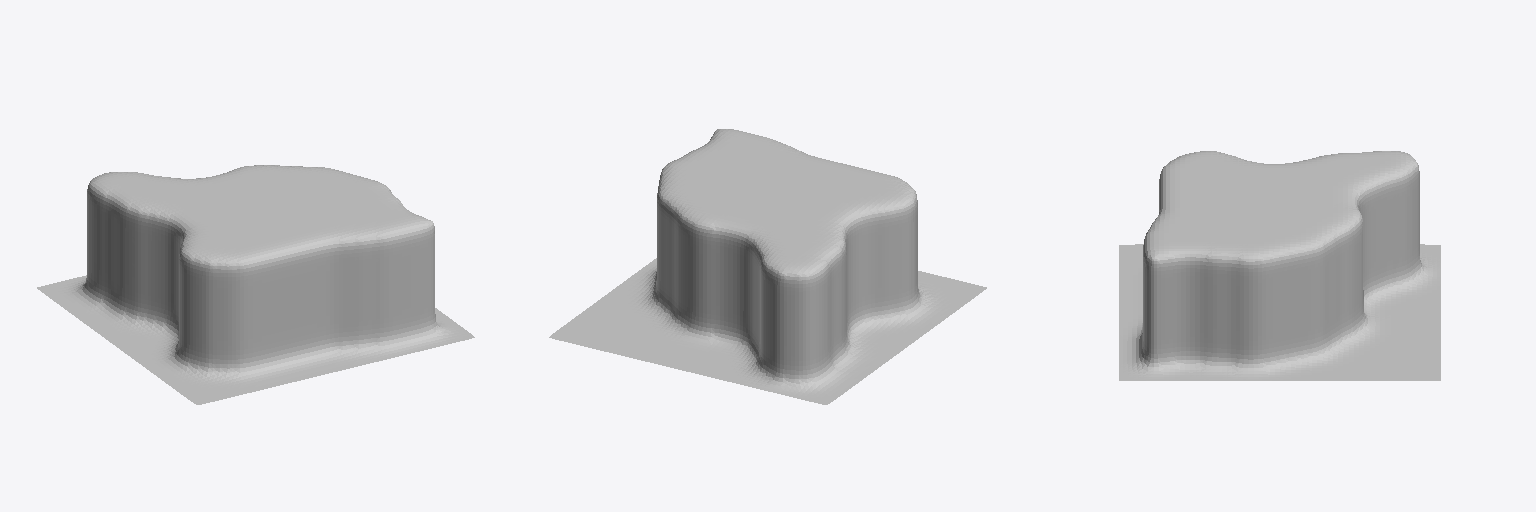
Rendered from mesa4.obj.
3 views of the same model, side by side, from view 1: azimuth 30°, elevation 25°; view 2: azimuth 150°, elevation 25°; view 3: azimuth 270°, elevation 25° (orthographic).
Parts seen in each view (by area): view 1: Plane; view 2: Plane; view 3: Plane.
Part boxes in pixels (left/top/right/bottom): Plane: left=37, top=165, right=474, bottom=404; Plane: left=549, top=129, right=986, bottom=404; Plane: left=1119, top=151, right=1440, bottom=380.
Bounding box in the file's own units: 39 × 15.12 × 39.01.